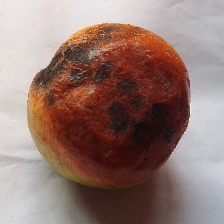guava: (30, 28, 177, 180)
